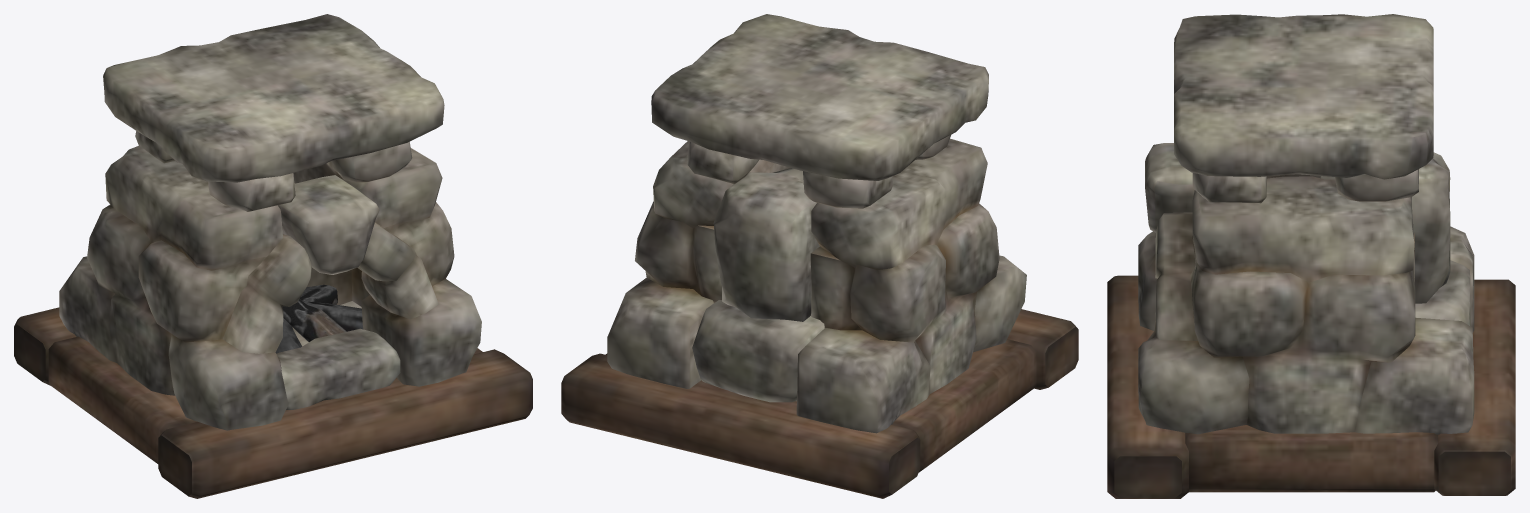
File: fireplace_comfort2_t1.glb
3 renders of one model, left to right at view 1: azimuth 30°, elevation 25°; view 2: azimuth 150°, elevation 25°; view 3: azimuth 270°, elevation 25°, orthographic. The views are drawn at different scales.
Visible parts, largest first — view 1: stone_fireplace_01; view 2: stone_fireplace_01; view 3: stone_fireplace_01.
Boxes of the visible parts, <box> form: stone_fireplace_01: <box>14,14,532,498</box>; stone_fireplace_01: <box>561,14,1078,498</box>; stone_fireplace_01: <box>1107,14,1515,498</box>.
Size of the model in its own units: 1.37 by 1.2 by 1.32.
Materials: 2 (2 with a texture image).
